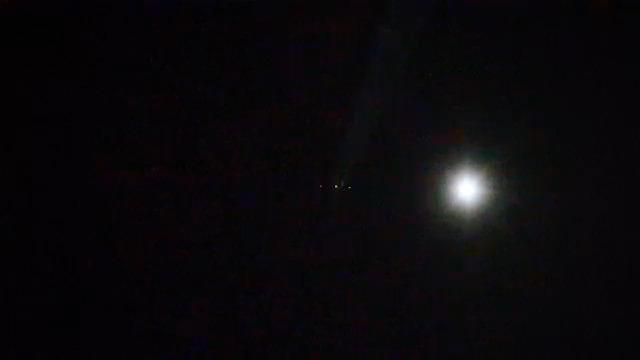Plane: (321, 154, 359, 198)
